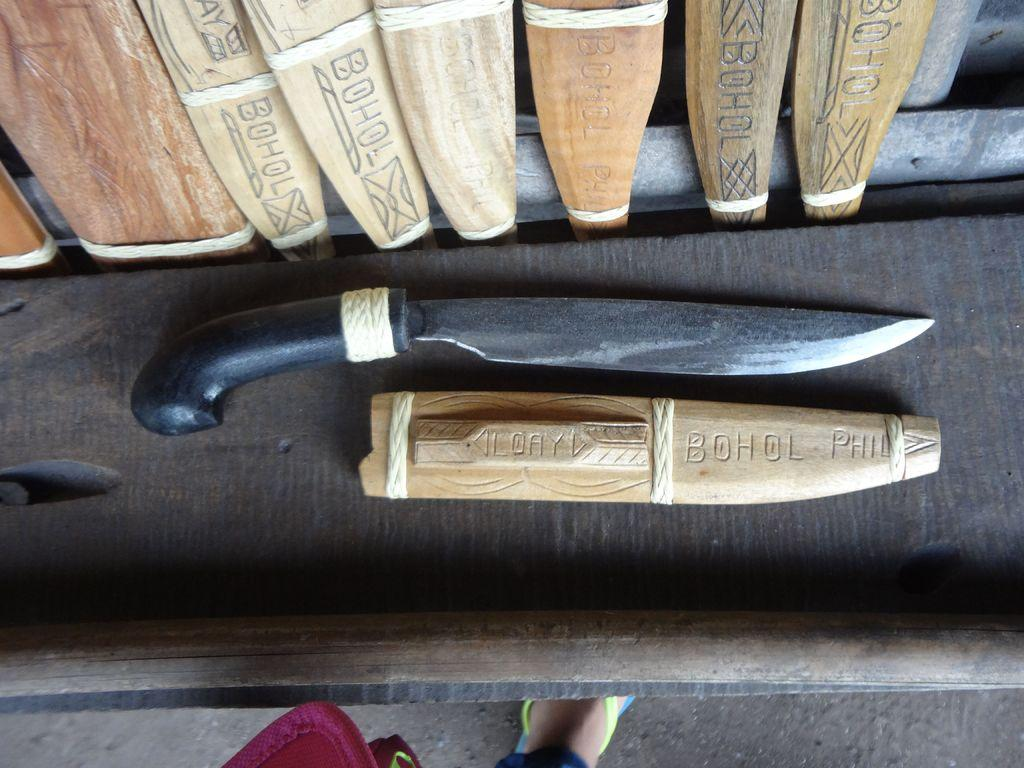Knife: (129, 283, 936, 437)
